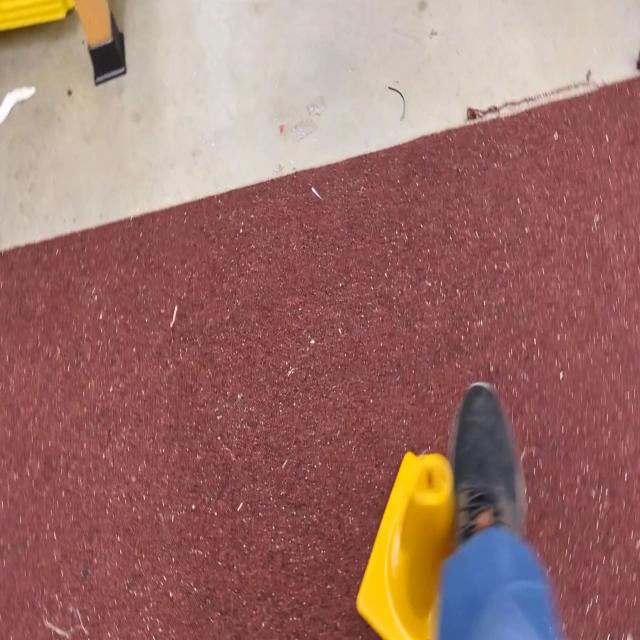frc_cone: (353, 446, 456, 640)
